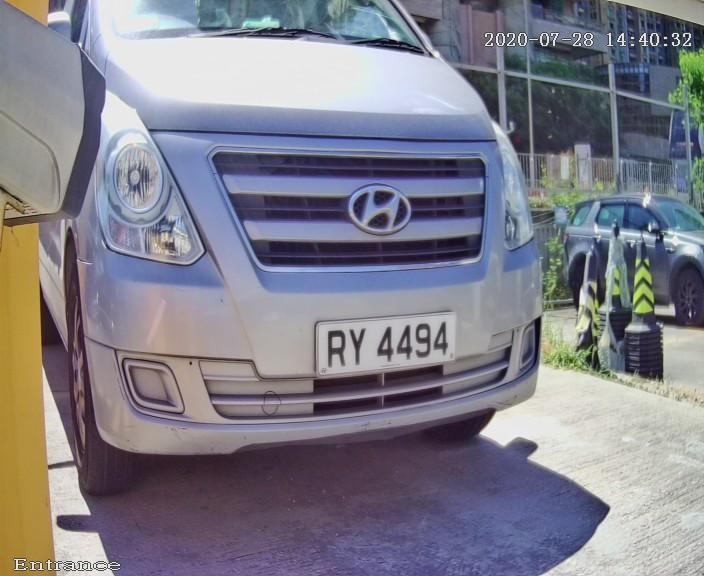privatecar: (16, 11, 613, 525)
